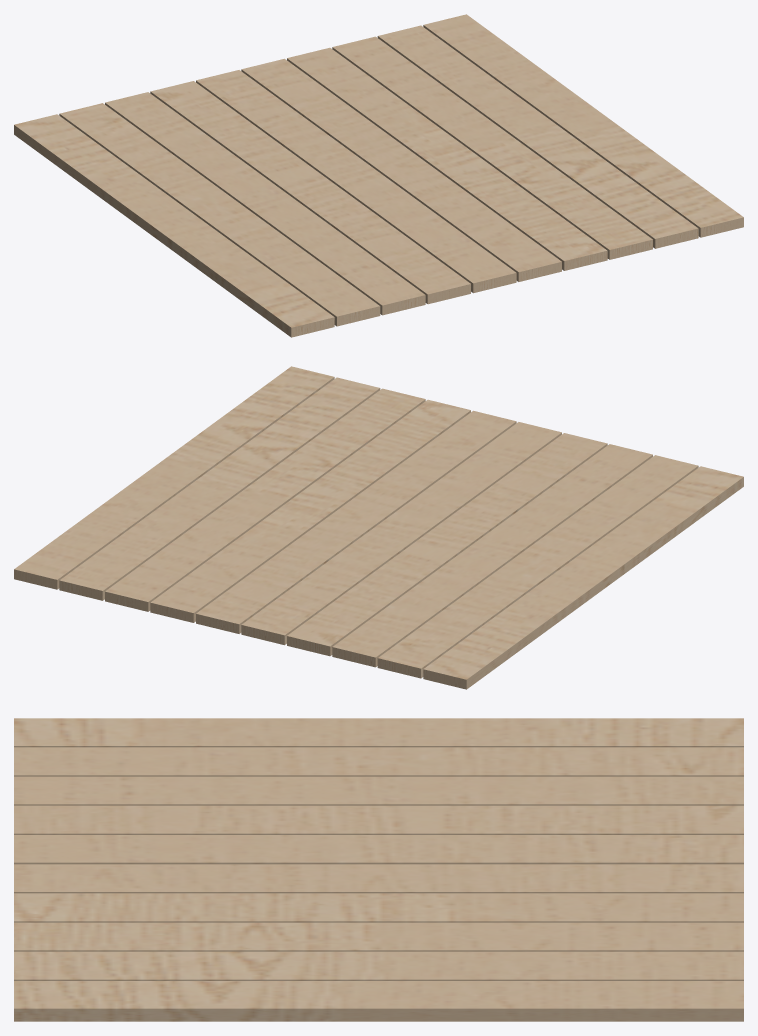
The model's file is Floors + Kits.glb.
3 renders of one model, top to bottom at view 1: azimuth 30°, elevation 25°; view 2: azimuth 150°, elevation 25°; view 3: azimuth 270°, elevation 25°, orthographic. The views are drawn at different scales.
Parts seen in each view (by area): view 1: WT_floor_kit; view 2: WT_floor_kit; view 3: WT_floor_kit.
Boxes of the visible parts, box(x1,y1,x2,y2) form: WT_floor_kit: box(14, 14, 743, 337); WT_floor_kit: box(14, 366, 743, 689); WT_floor_kit: box(14, 718, 743, 1021).
Bounding box in the file's own units: 1.46 × 0.0305 × 1.55.
Materials: 1 (1 with a texture image).
